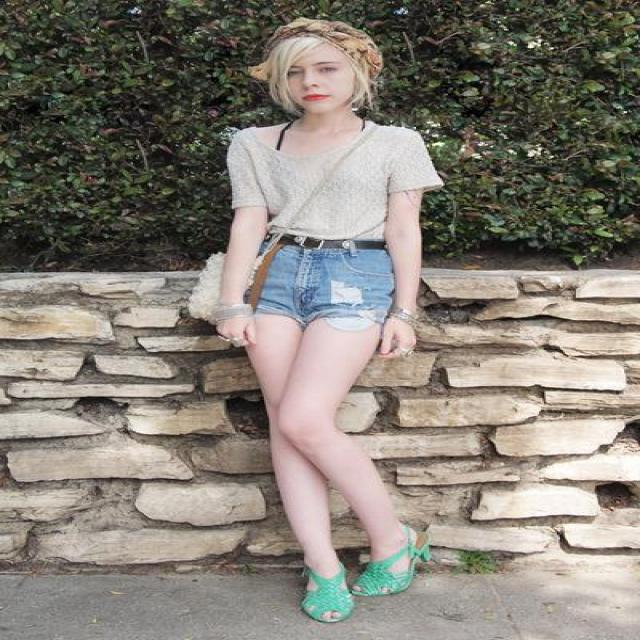bag: (180, 253, 242, 319)
hat: (269, 17, 381, 83)
shirt: (226, 122, 440, 242)
shoe: (306, 541, 448, 615)
shorts: (243, 239, 397, 344)
